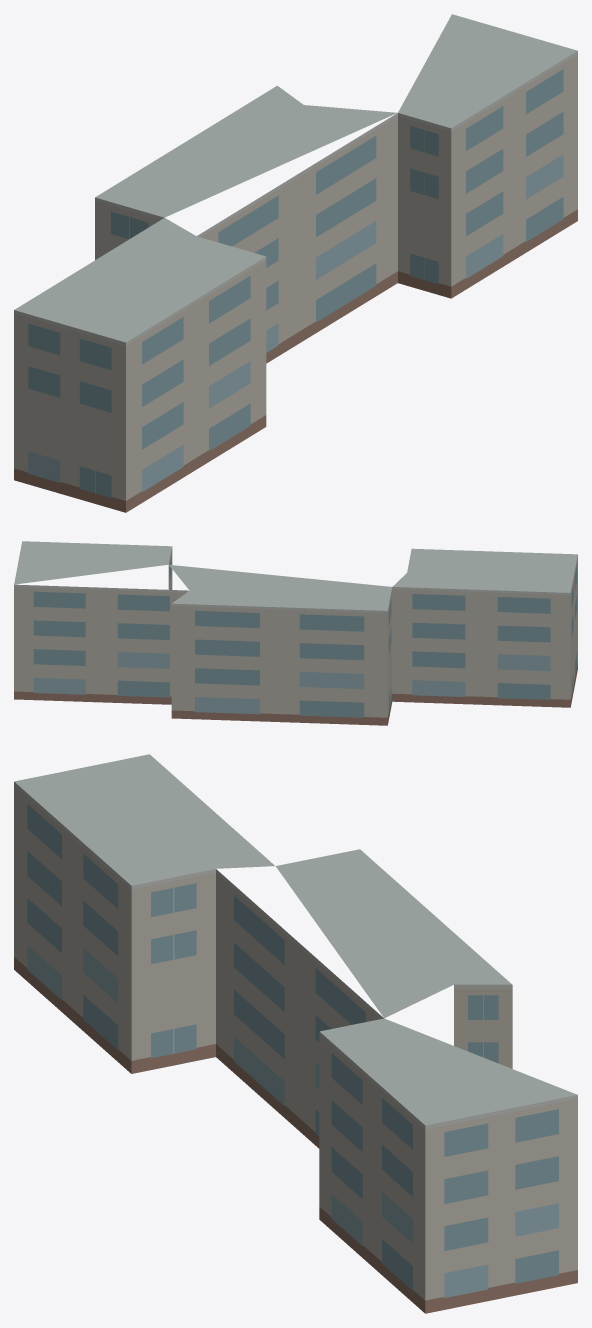
The model's file is residential-1c06632e-0589-46f3-a33f-a8b2f23b5e0c.glb.
3 renders of one model, top to bottom at view 1: azimuth 30°, elevation 25°; view 2: azimuth 150°, elevation 25°; view 3: azimuth 270°, elevation 25°, orthographic. The views are drawn at different scales.
Parts seen in each view (by area): view 1: residential-1c06632e-0589-46f3-a33f-a8b2f23b5e0c.tmp; view 2: residential-1c06632e-0589-46f3-a33f-a8b2f23b5e0c.tmp; view 3: residential-1c06632e-0589-46f3-a33f-a8b2f23b5e0c.tmp.
Part boxes in pixels (x1,y1,x2,y2): residential-1c06632e-0589-46f3-a33f-a8b2f23b5e0c.tmp: (14, 14, 577, 512); residential-1c06632e-0589-46f3-a33f-a8b2f23b5e0c.tmp: (14, 541, 577, 725); residential-1c06632e-0589-46f3-a33f-a8b2f23b5e0c.tmp: (14, 754, 577, 1313).
Size of the model in its own units: 51.64 by 12.2 by 33.14.
